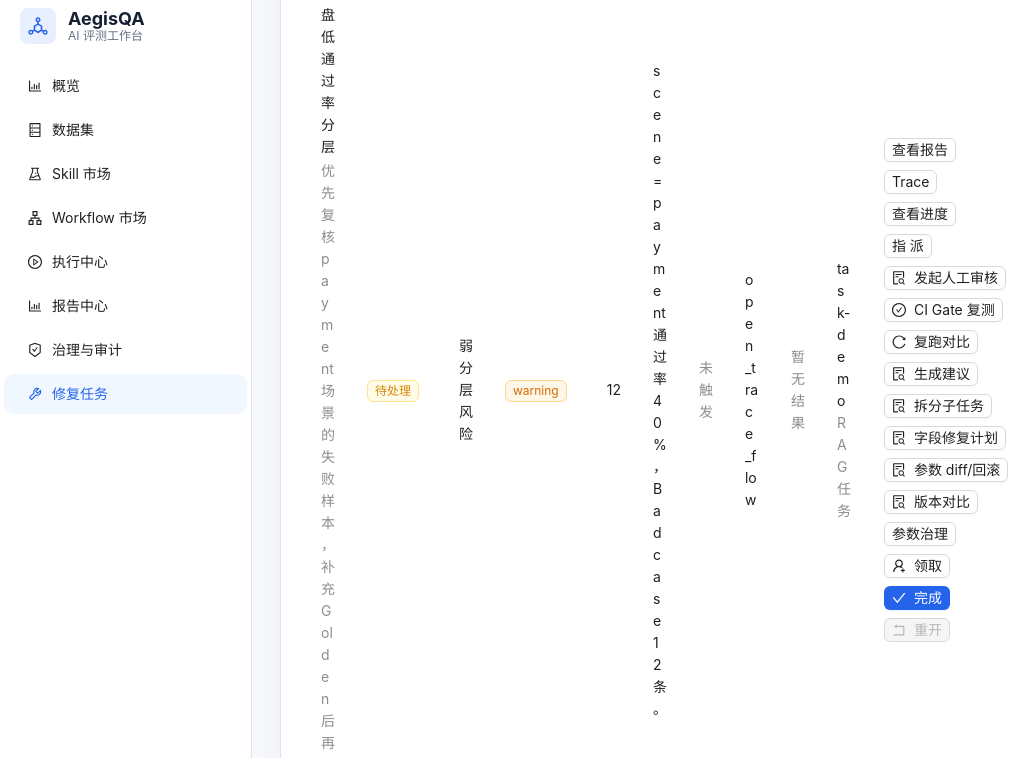
Test: 修复任务工作台 › 修复任务工作台支持生成并展示上下文修复建议
(page scrolled)
Click the button "生成建议". click: (931, 374)
box: top-left (884, 362), bottom-right (978, 386)
(page scrolled)
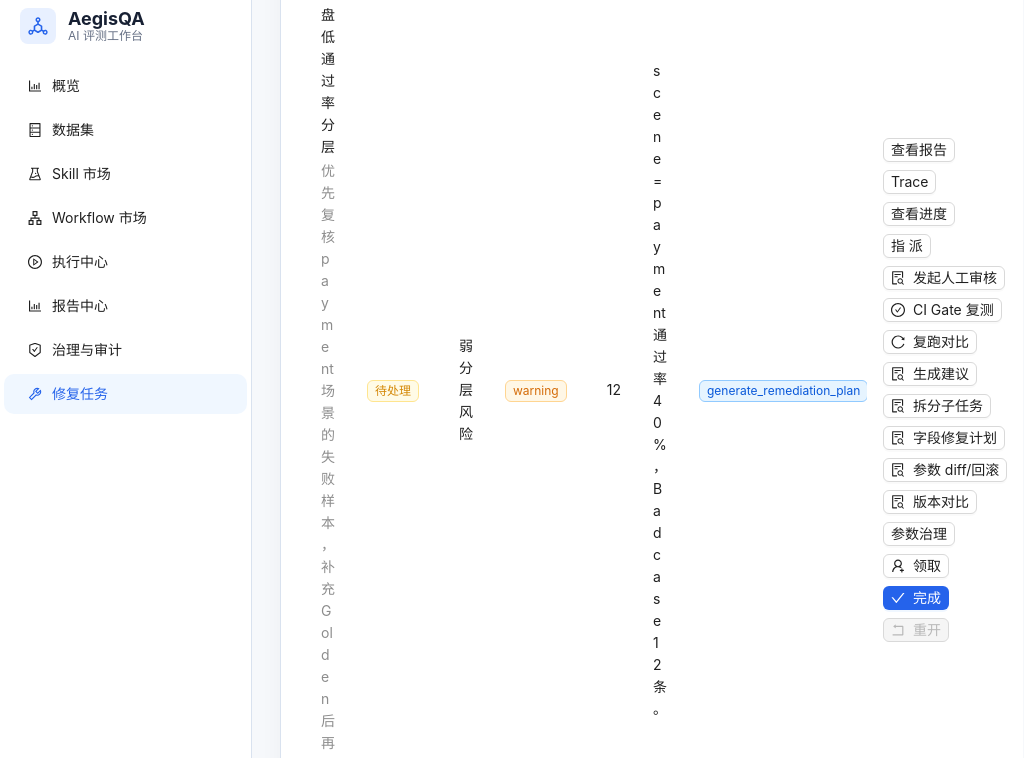
Check: the text "低通过率分层修复建议" is shown, box top-left (954, 282), bottom-right (968, 497)
Check: the text "generate_remediation_plan" is shown, box top-left (699, 380), bottom-right (868, 402)
